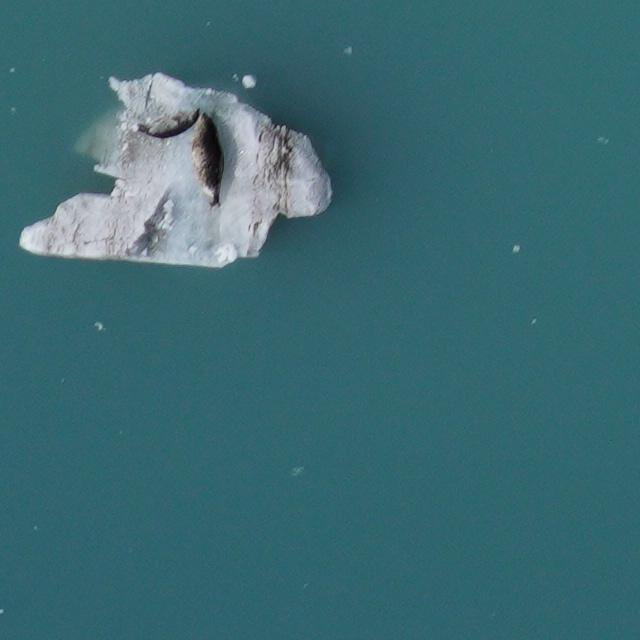seal: (192, 108, 223, 207), (136, 108, 199, 138)
